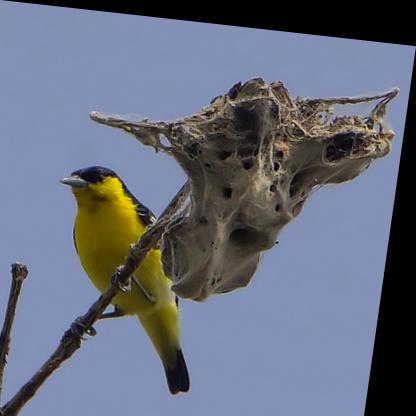Burung: (44, 159, 224, 389)
